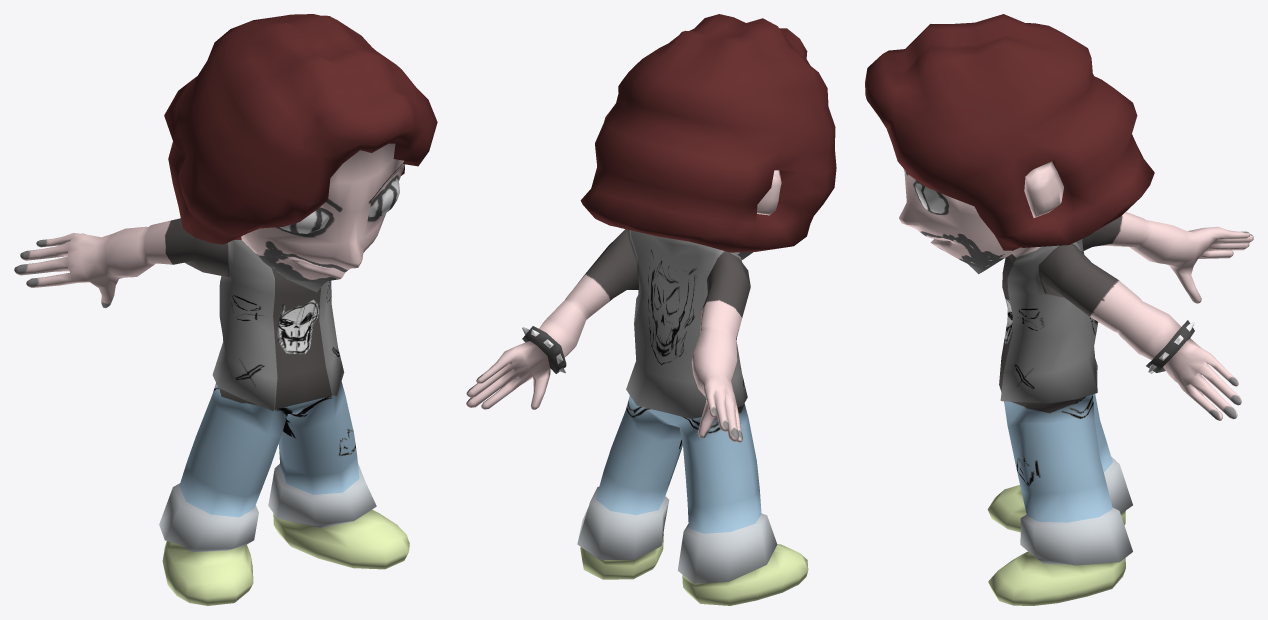
The model's file is rockero_rigging_000049.obj.
3 views of the same model, side by side, from view 1: azimuth 30°, elevation 25°; view 2: azimuth 150°, elevation 25°; view 3: azimuth 270°, elevation 25° (orthographic). The views are drawn at different scales.
Parts seen in each view (by area): view 1: Cylinder.001; view 2: Cylinder.001; view 3: Cylinder.001.
Boxes of the visible parts, x1,y1,x2,y2 form: Cylinder.001: (14,14,437,605); Cylinder.001: (466,14,836,605); Cylinder.001: (865,14,1253,605).
Size of the model in its own units: 2.61 by 4.67 by 3.11.
1 material, 1 textured.
